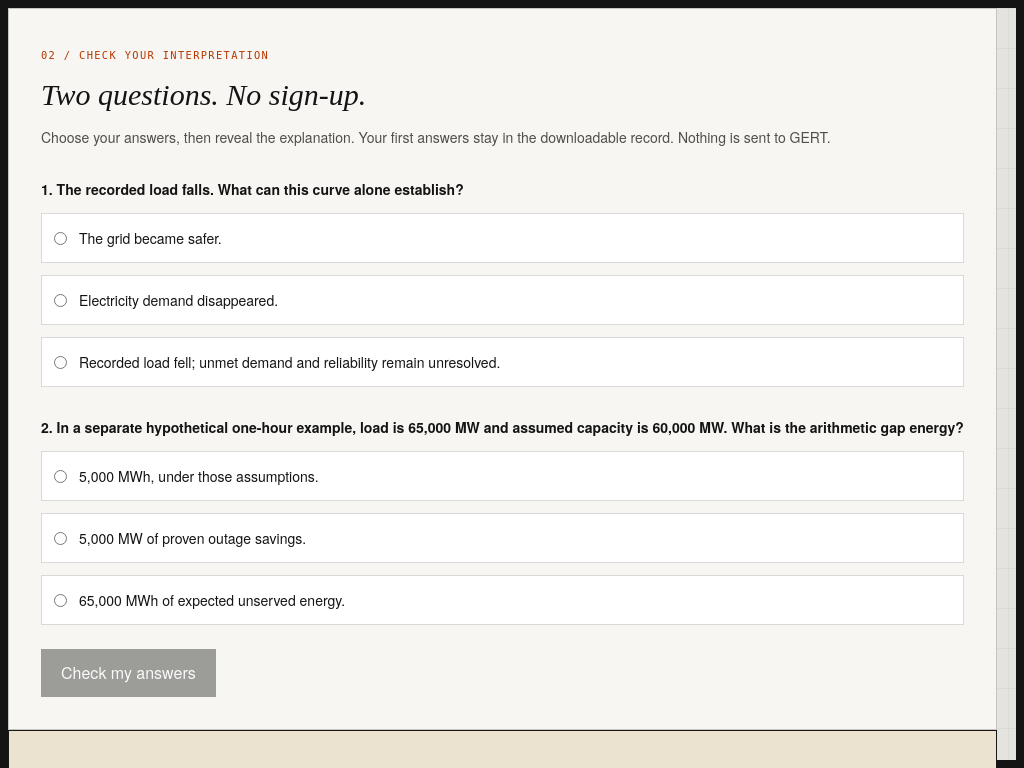
Test case: winter brief self-check › reveals explanations, locks initial answers, and makes no network request
This screenshot has width=1024, height=768.
Expected: the button "Check my answers" is disabled, [41, 649, 216, 697]
Click the radio button labelled "Recorded load fell; unmet demand and reliability remain unresolved.": point(60, 362) [54, 356, 67, 369]
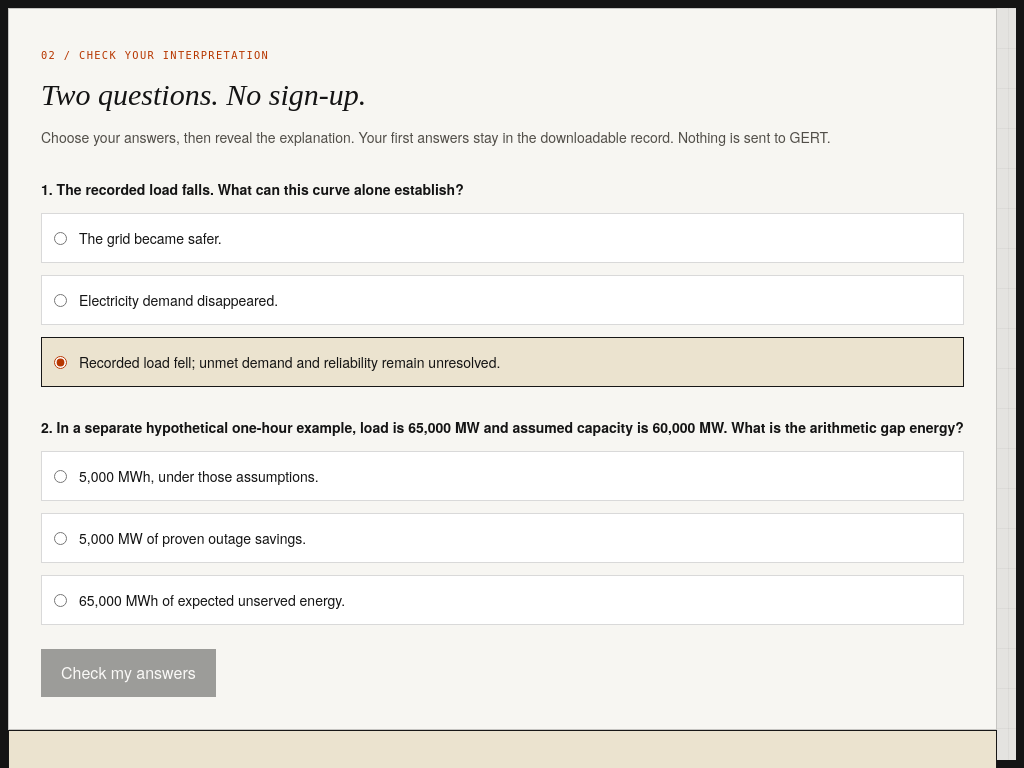
Click the radio button labelled "5,000 MWh, under those assumptions.": point(60, 476) [54, 470, 67, 483]
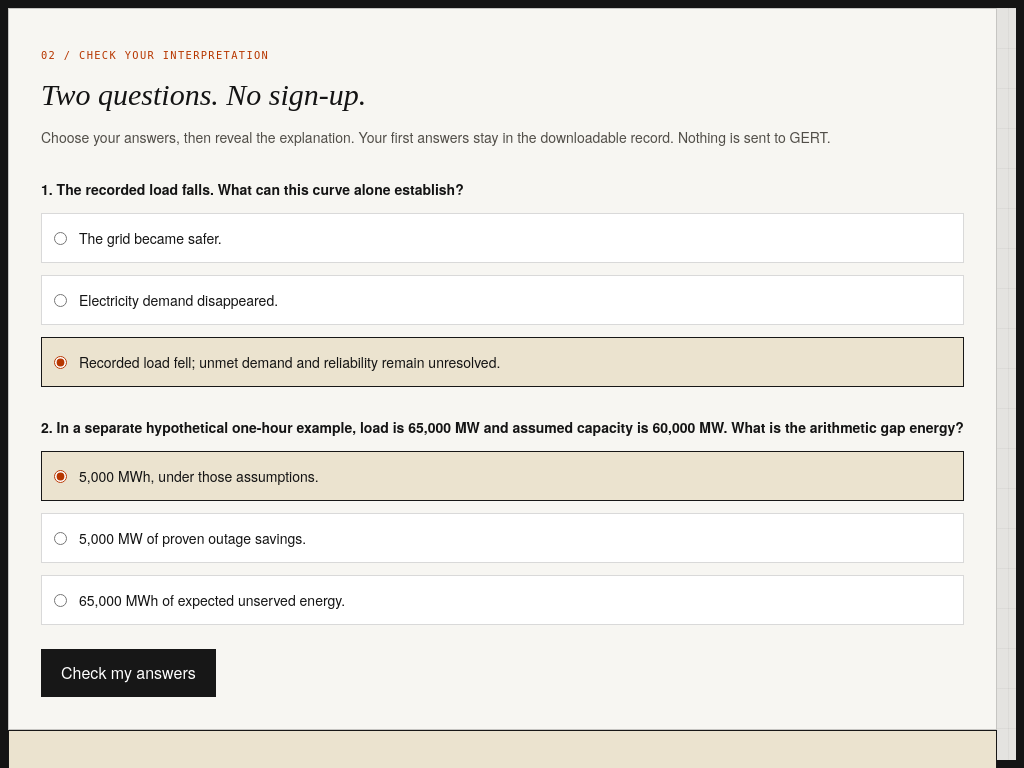
Click the button "Check my answers": point(128, 673) [41, 649, 216, 697]
(page scrolled)
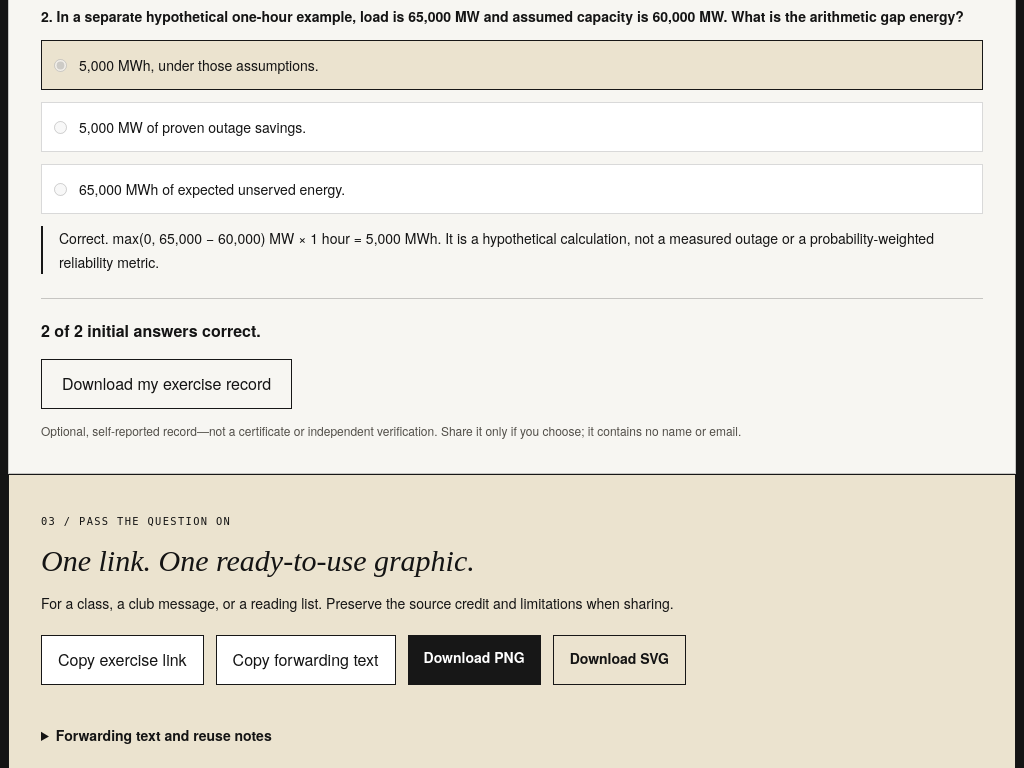
Expected: the text "2 of 2 initial answers correct." is shown, [41, 319, 261, 342]
Expected: the button "Download my exercise record" is shown, [41, 359, 292, 409]
